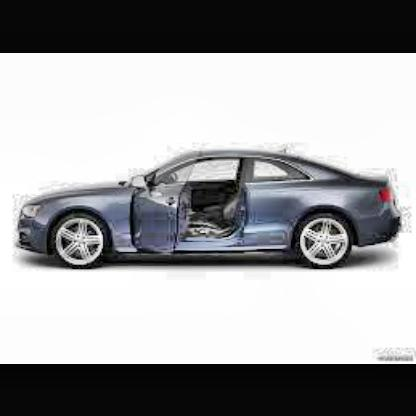Audi S5 Coupe 2012: (19, 148, 407, 274)
